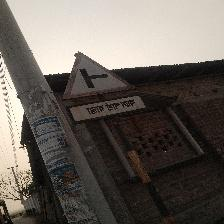Side-road-left: (62, 52, 147, 123)
